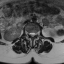CCS_normal: (32, 30, 33, 39)
LFS_normal: (35, 30, 37, 37)
LLS_normal: (33, 30, 35, 38)
RFS_normal: (27, 29, 30, 38)
RLS_normal: (30, 30, 32, 38)
